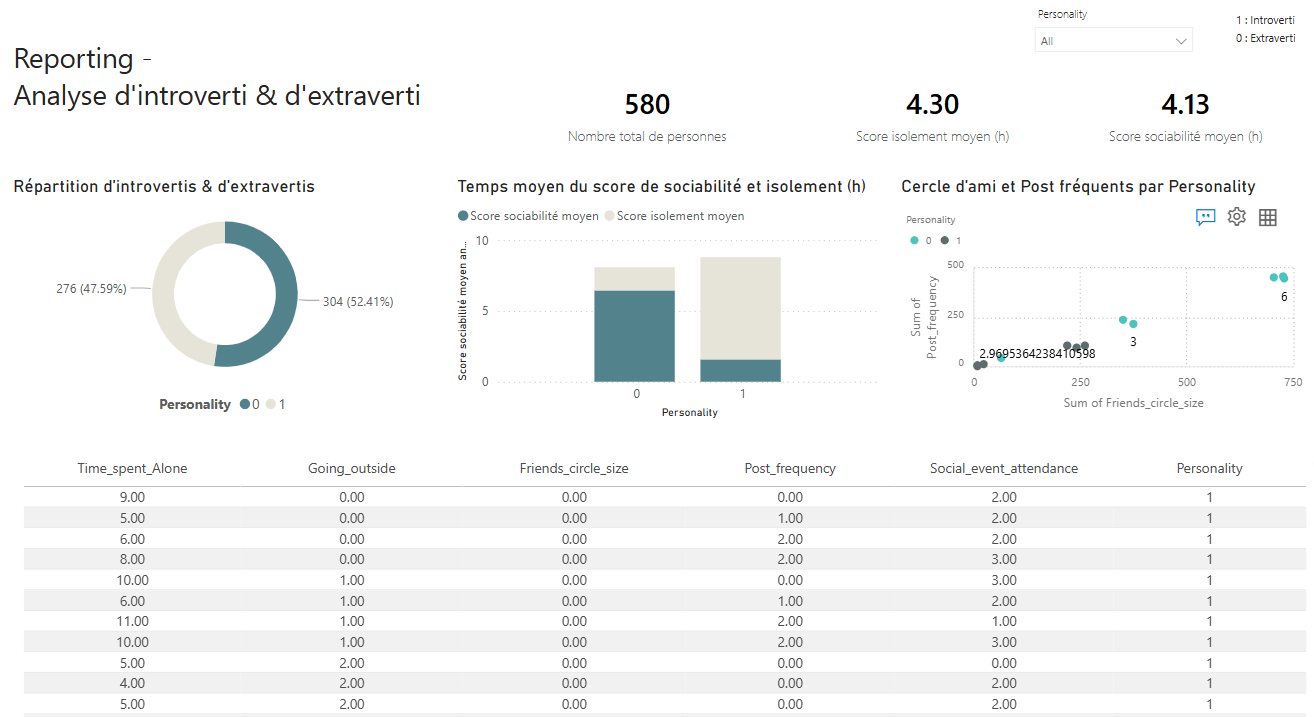

The dashboard page shown, as its layout file describes it:
{"tool":"powerbi","page":{"name":"Page 1","canvas":[1280,720],"ordinal":0},"visuals":[{"type":"tableEx","fields":{"Values":["personality_dataset_predictions.Time_spent_Alone","personality_dataset_predictions.Going_outside","personality_dataset_predictions.Friends_circle_size","personality_dataset_predictions.Post_frequency","personality_dataset_predictions.Social_event_attendance","personality_dataset_predictions.Personality"]},"box":[9,439.9,1269.2,280.3],"z":0},{"type":"card","fields":{"Values":["personality_dataset_predictions.Nombre total de personnes"]},"box":[496.7,69.4,245.2,84.7],"z":1000},{"type":"donutChart","title":"Répartition d''introvertis & d''extravertis","fields":{"Category":["personality_dataset_predictions.Personality"],"Y":["personality_dataset_predictions.Nombre total de personnes"]},"box":[0,172.2,420.1,239.8],"z":2000},{"type":"columnChart","title":"Temps moyen du score de sociabilité et isolement (h)","fields":{"Category":["personality_dataset_predictions.Personality"],"Y":["personality_dataset_predictions.Score sociabilité moyen","personality_dataset_predictions.Score isolement moyen"]},"box":[430,172.2,420.1,239.8],"z":6000},{"type":"performanceBubbleChartFBAAA829CB604E5CAB4F21729F233294","title":"Cercle d''ami et Post fréquents par Personality","fields":{"xmeasure":["Sum(personality_dataset_predictions.Friends_circle_size)"],"ymeasure":["Sum(personality_dataset_predictions.Post_frequency)"],"legend":["personality_dataset_predictions.Personality"],"category":["personality_dataset_predictions.Going_outside"]},"box":[859.9,172.2,420.1,239.8],"z":7000},{"type":"card","fields":{"Values":["personality_dataset_predictions.Score sociabilité moyen"]},"box":[1017.7,69.4,245.2,84.7],"z":8000},{"type":"card","fields":{"Values":["personality_dataset_predictions.Score isolement moyen"]},"box":[772.5,69.4,245.2,84.7],"z":9000},{"type":"slicer","fields":{"Values":["personality_dataset_predictions.Personality"]},"box":[984.3,2.7,173.1,62.2],"z":10000},{"type":"textbox","box":[1183.5,6.3,94.6,55.9],"z":11000},{"type":"textbox","box":[0,34.3,475.9,89.2],"z":11001}]}

Visuals, with their boxes on the page's 1280x720 design canvas (x1, y1, x2, y2). These are canvas units, not pixel positions in the 1314x717 screenshot, which may show the page scaled, cropped or inside an application window:
tableEx - personality_dataset_predictions.Time_spent_Alone x personality_dataset_predictions.Going_outside: [9, 440, 1278, 720]
card - personality_dataset_predictions.Nombre total de personnes: [497, 69, 742, 154]
"Répartition d''introvertis & d''extravertis" donutChart: [0, 172, 420, 412]
"Temps moyen du score de sociabilité et isolement (h)" columnChart: [430, 172, 850, 412]
"Cercle d''ami et Post fréquents par Personality" performanceBubbleChartFBAAA829CB604E5CAB4F21729F233294: [860, 172, 1280, 412]
card - personality_dataset_predictions.Score sociabilité moyen: [1018, 69, 1263, 154]
card - personality_dataset_predictions.Score isolement moyen: [772, 69, 1018, 154]
slicer - personality_dataset_predictions.Personality: [984, 3, 1157, 65]
textbox: [1184, 6, 1278, 62]
textbox: [0, 34, 476, 124]
